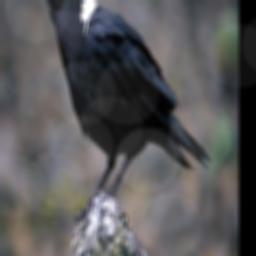Crow: (28, 0, 212, 227)
